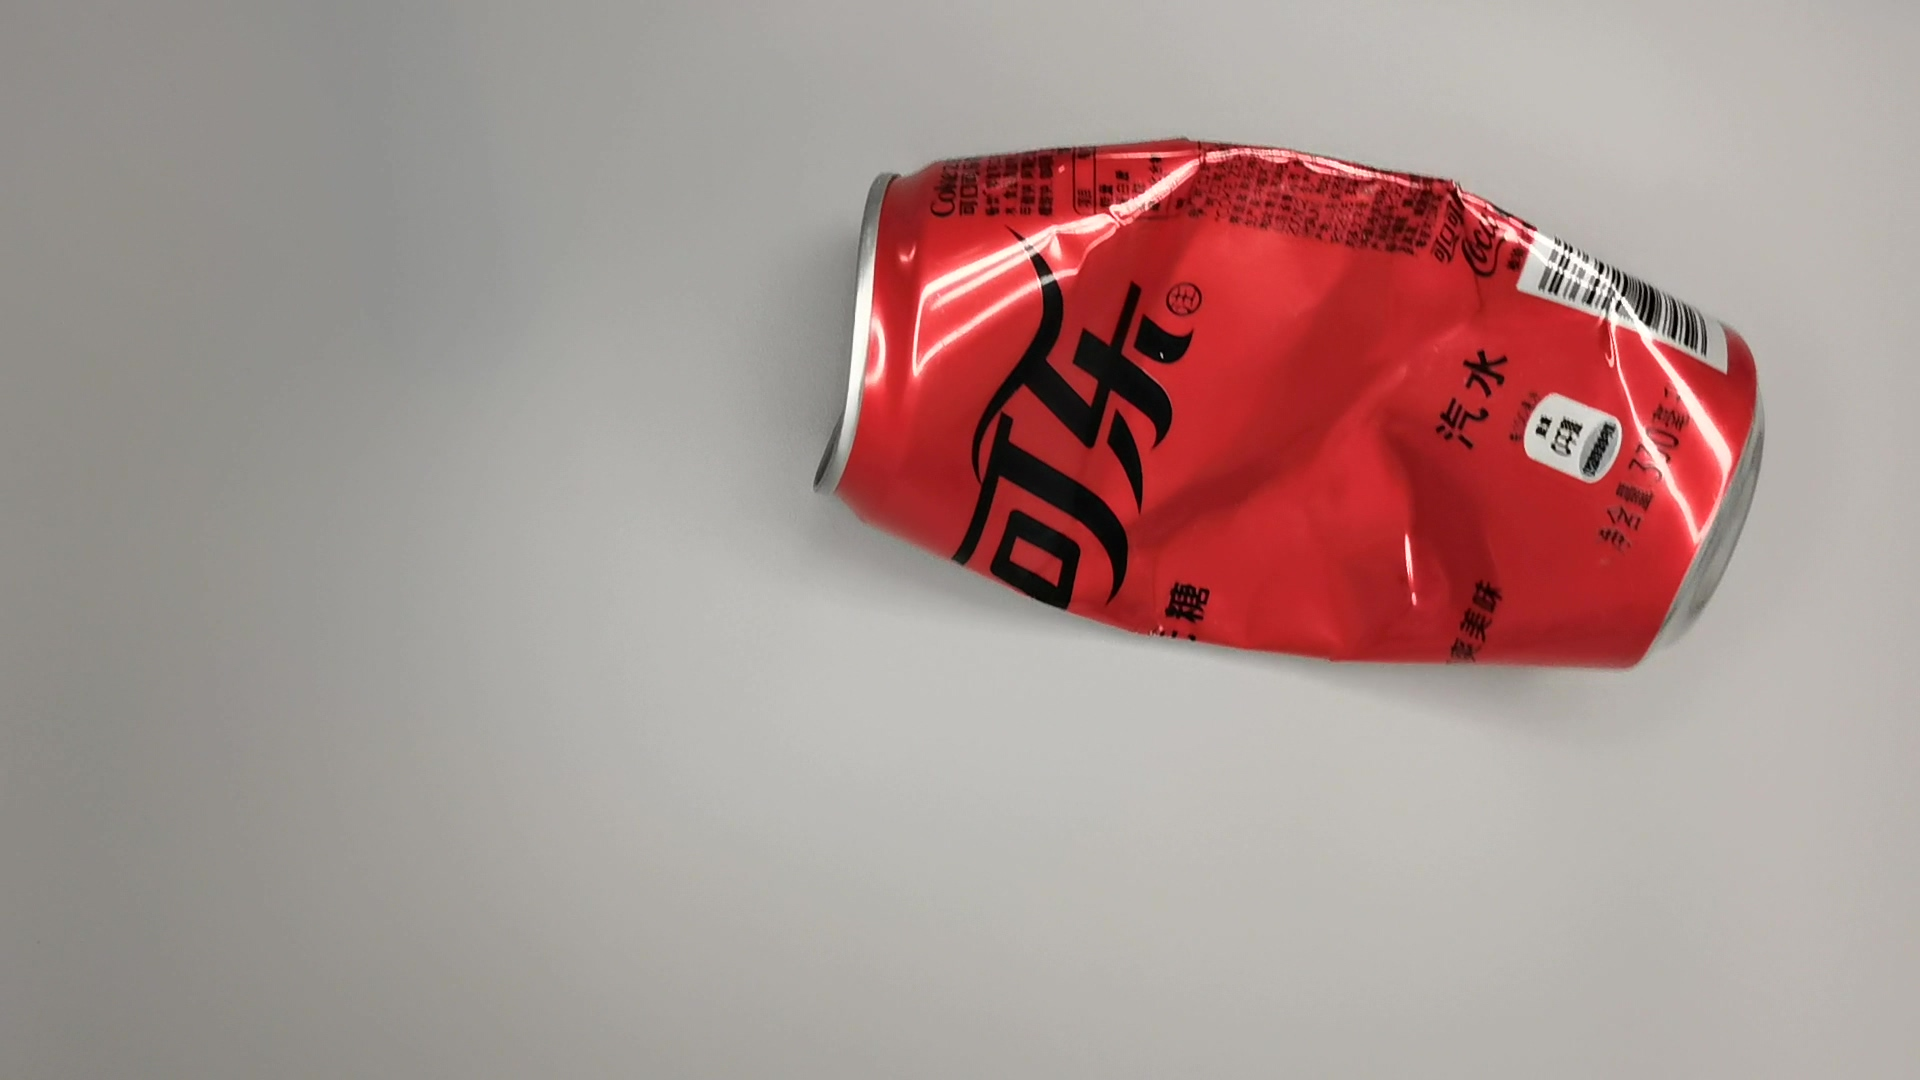can: (810, 131, 1784, 679)
